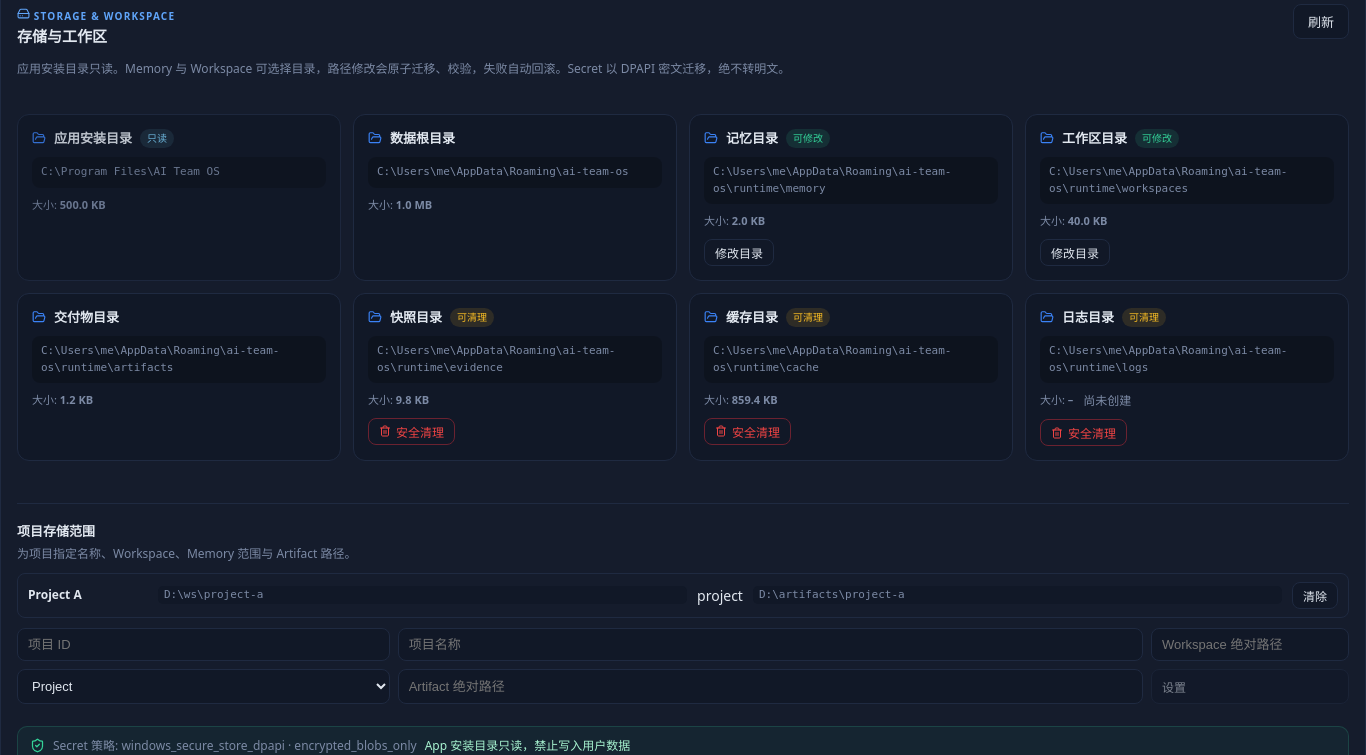
StorageWorkspacePanel › cleans a cleanable root
Check: the text "缓存目录" is shown, box [726,308,778,327]
// roots 顺序：snapshot / cache / log → cache 是第 2 个
Click the button "安全清理" below "859.4 KB" at x=748, y=431, box [704,418,791,444]
(page scrolled)
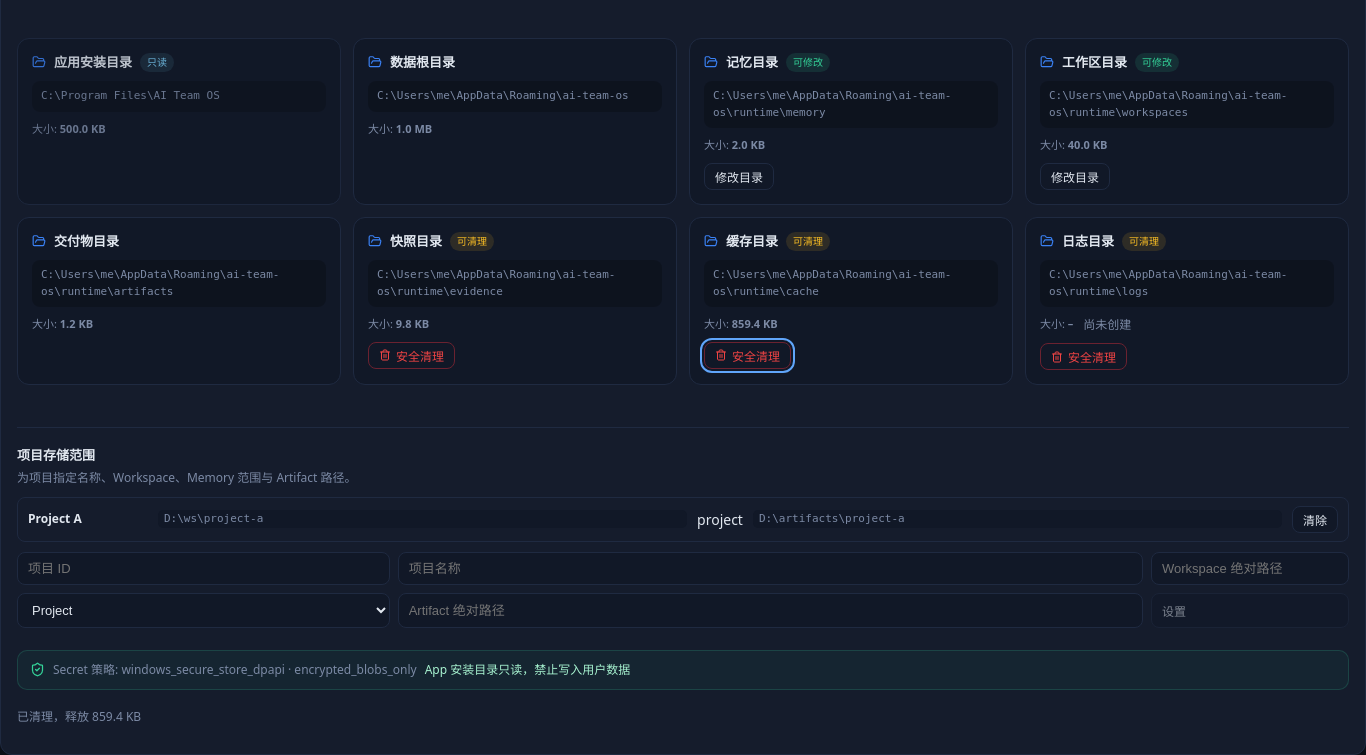
Check: the text "已清理，释放 859.4 KB" is shown, box [17,708,141,724]
